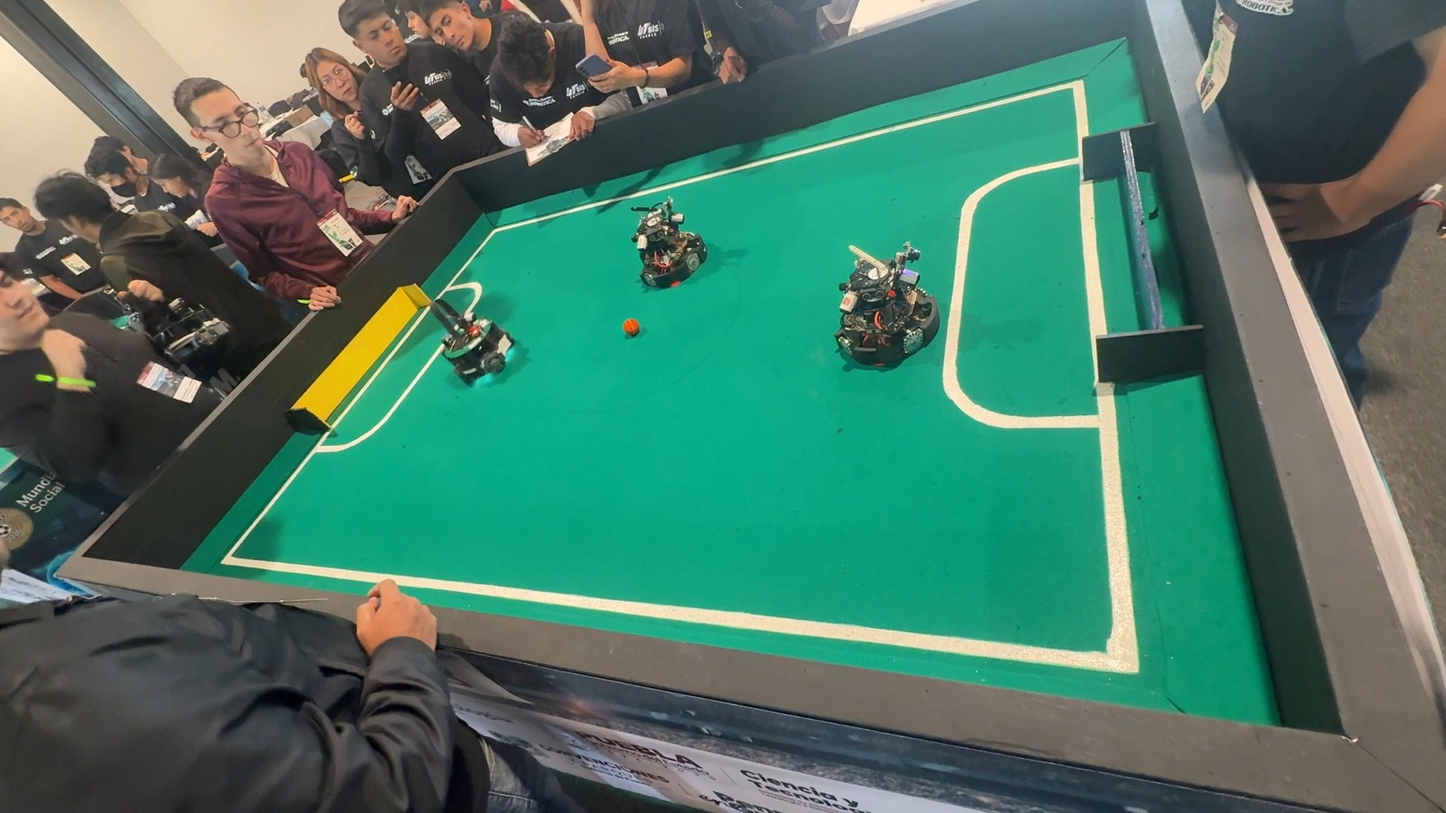Robot: (824, 230, 948, 380), (412, 269, 529, 393), (618, 199, 708, 297)
pelota: (619, 315, 644, 341)
